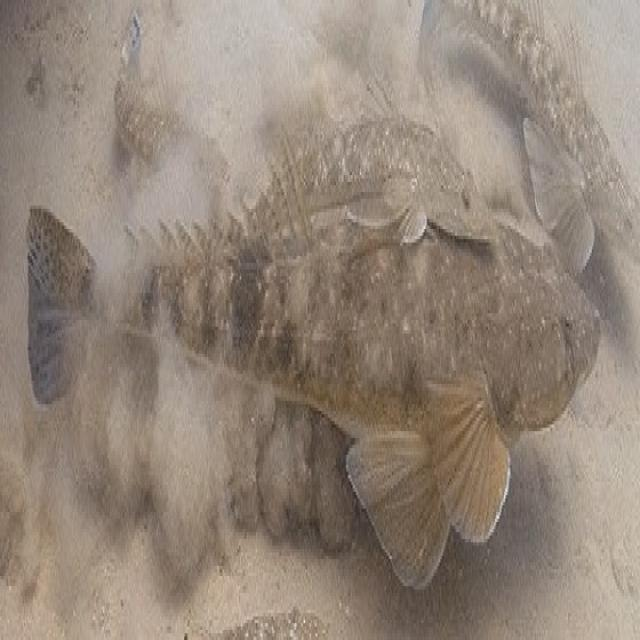Flathead: (6, 120, 603, 601)
